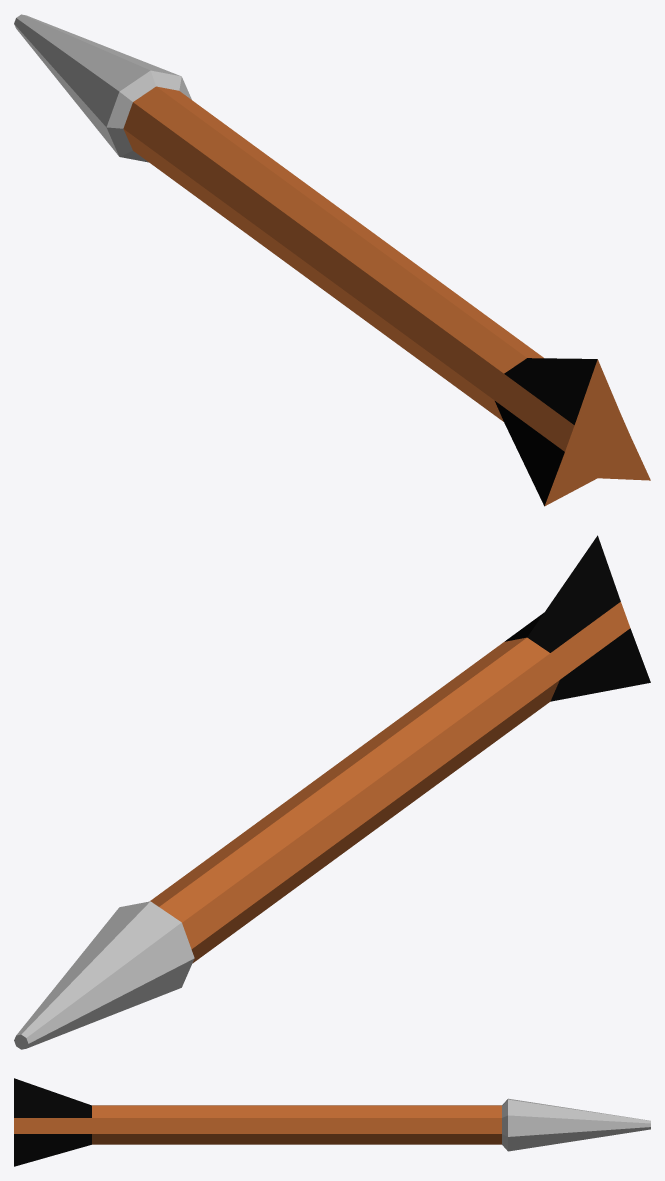
Rendered from arrow.fbx.
3 views of the same model, one above another, from view 1: azimuth 30°, elevation 25°; view 2: azimuth 150°, elevation 25°; view 3: azimuth 270°, elevation 25° (orthographic). The views are drawn at different scales.
Parts seen in each view (by area): view 1: Arrow; view 2: Arrow; view 3: Arrow.
Part boxes in pixels (x1,y1,x2,y2): Arrow: (14, 14, 650, 506); Arrow: (14, 535, 650, 1049); Arrow: (14, 1078, 650, 1166).
Bounding box in the file's own units: 63.73 × 76.93 × 597.
